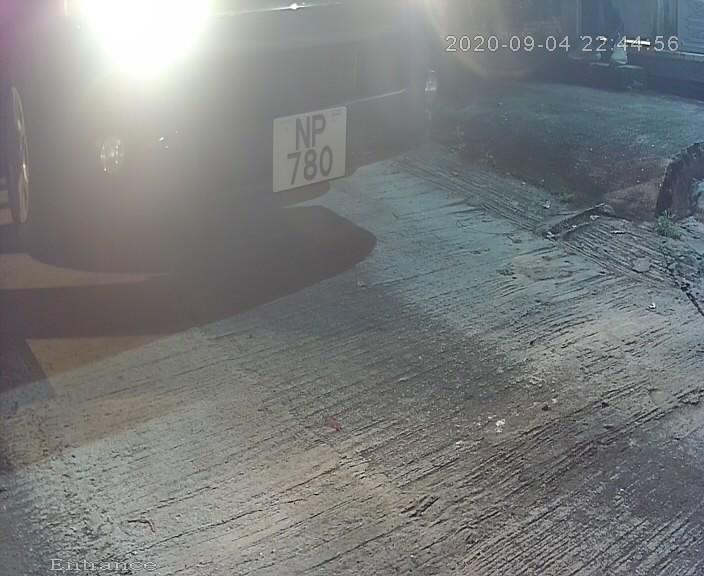License Plate: (255, 88, 362, 209)
